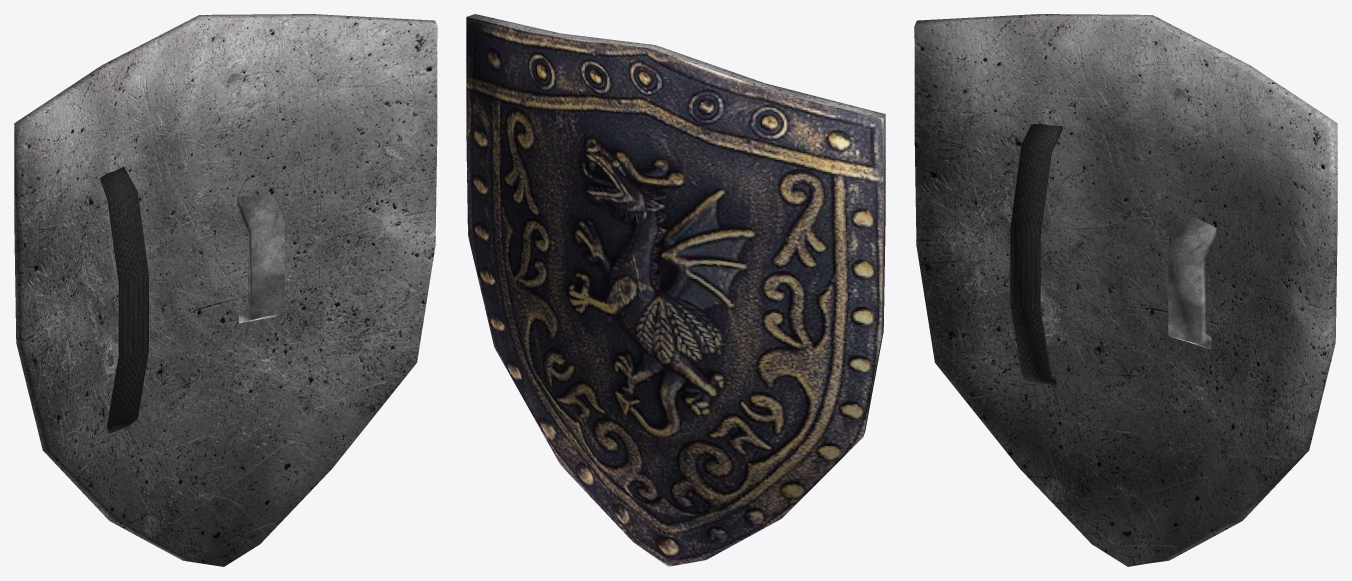
Rendered from ShieldIron02.fbx.
3 views of the same model, side by side, from view 1: azimuth 30°, elevation 25°; view 2: azimuth 150°, elevation 25°; view 3: azimuth 330°, elevation 25° (orthographic).
Parts seen in each view (by area): view 1: Shield01; view 2: Shield01; view 3: Shield01.
Boxes of the visible parts, x1=… form: Shield01: x1=14, y1=14, x2=437, y2=566; Shield01: x1=466, y1=14, x2=885, y2=566; Shield01: x1=914, y1=14, x2=1337, y2=566.
Size of the model in its own units: 95.66 by 17.38 by 117.
Materials: 4 (4 with a texture image).
